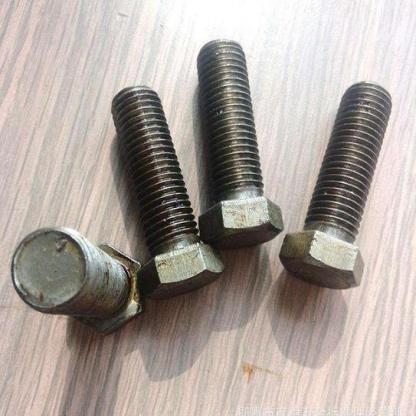FOD: (110, 82, 226, 304), (277, 79, 394, 292), (195, 37, 285, 250), (10, 224, 145, 338)
